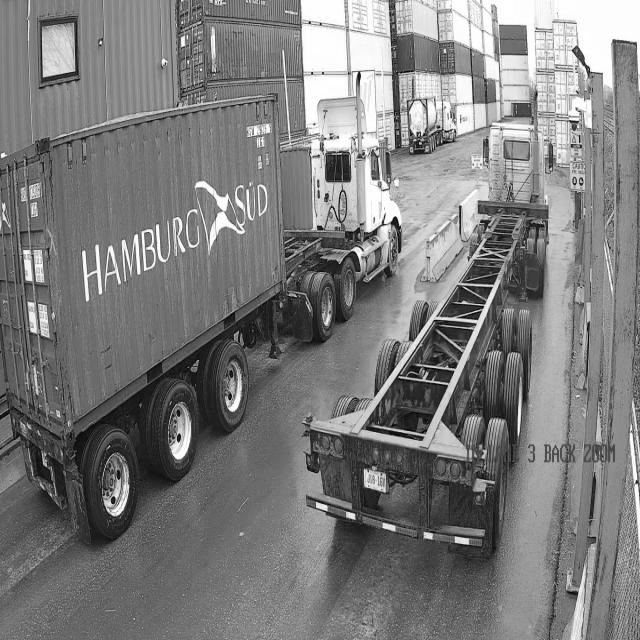container_company_logo: (75, 165, 270, 314)
license_plate: (362, 468, 388, 490)
truck_with_container: (0, 74, 402, 542)
truck_without_container: (306, 122, 548, 556)
